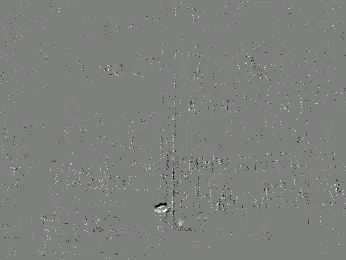object: (151, 200, 170, 213)
teddy bear: (151, 200, 170, 213)
